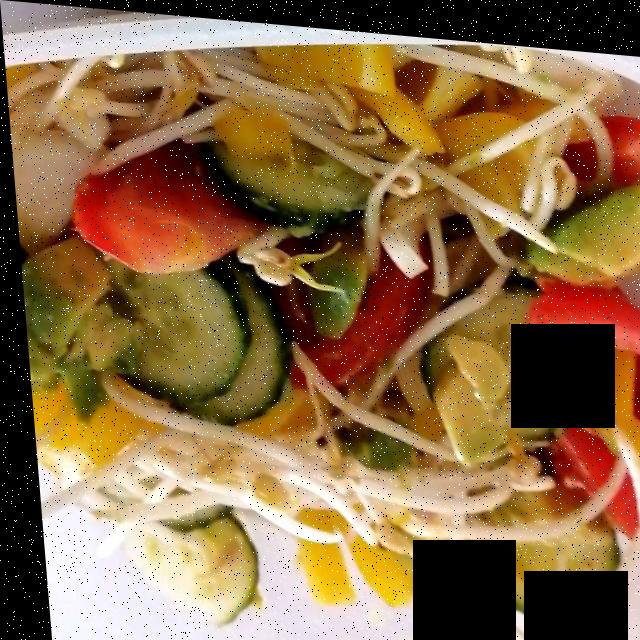avocado: (23, 180, 638, 453)
